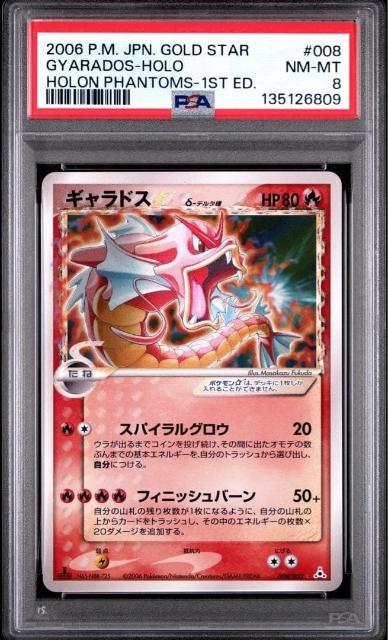Card: (37, 166, 349, 597)
Name: (60, 187, 184, 212)
